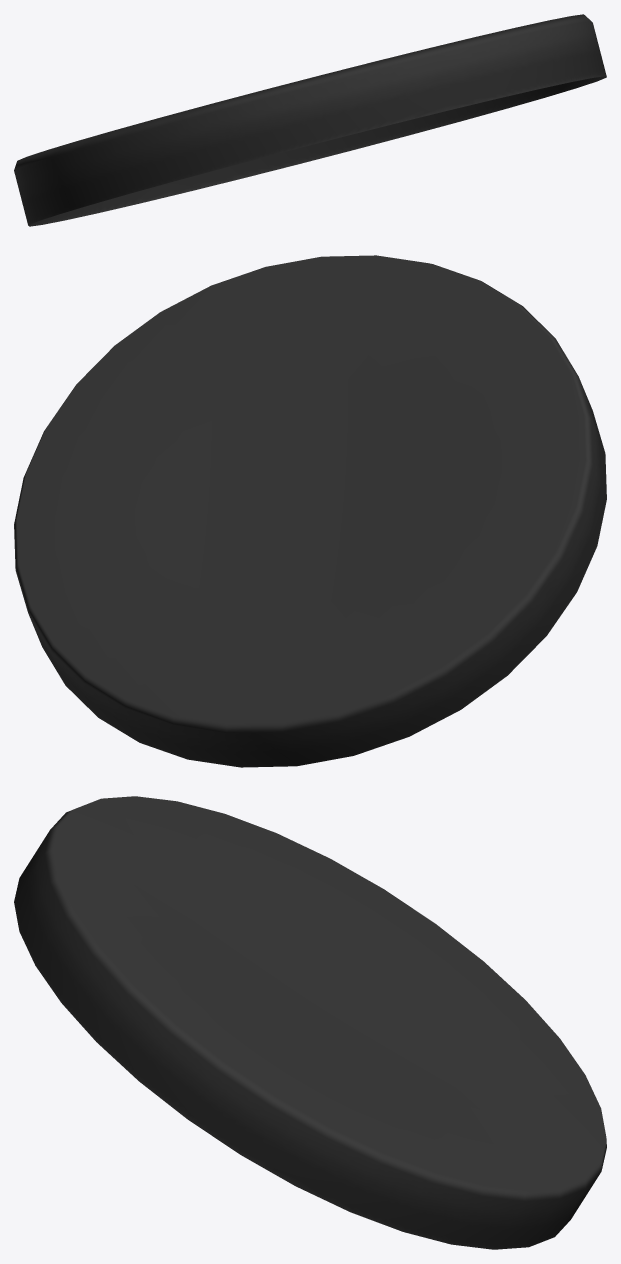
Rendered from TOUCHPAD_PRESS.obj.
3 renders of one model, top to bottom at view 1: azimuth 30°, elevation 25°; view 2: azimuth 150°, elevation 25°; view 3: azimuth 270°, elevation 25°, orthographic. The views are drawn at different scales.
Size of the model in its own units: 0.0275 by 0.0162 by 0.0251.
